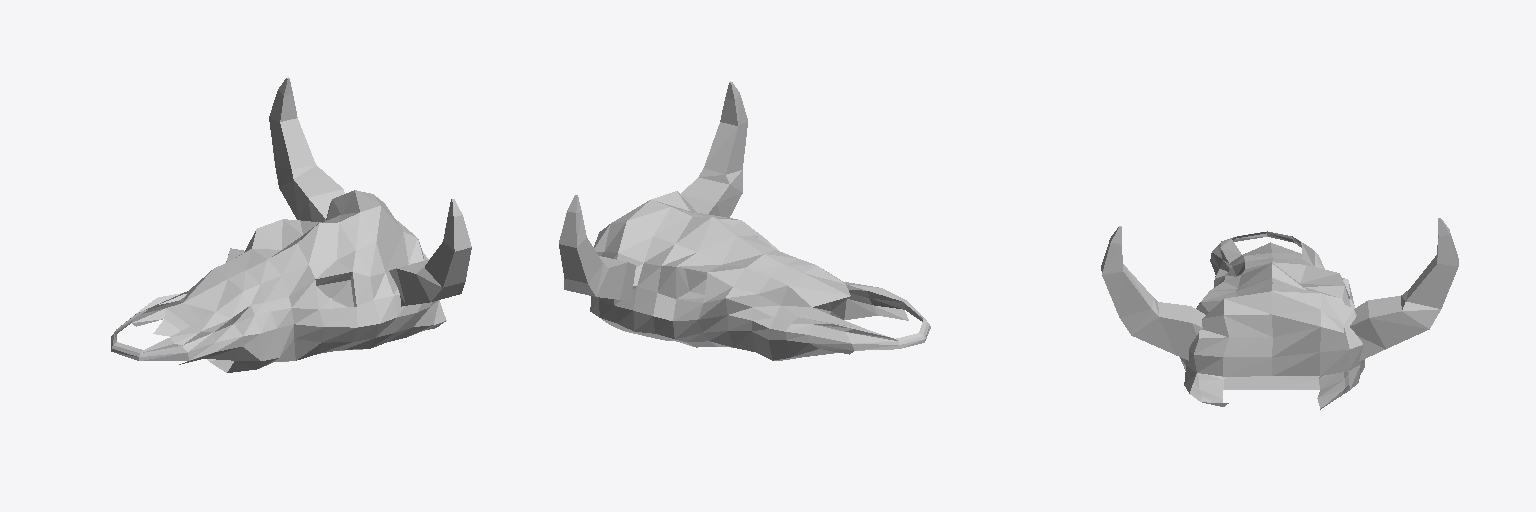
Rendered from dead_head.obj.
3 views of the same model, side by side, from view 1: azimuth 30°, elevation 25°; view 2: azimuth 150°, elevation 25°; view 3: azimuth 270°, elevation 25° (orthographic).
Parts seen in each view (by area): view 1: pCube1, pCube3, pCube4; view 2: pCube1, pCube4, pCube3; view 3: pCube1, pCube3, pCube4.
Part boxes in pixels (x1,y1,x2,y2): pCube1: (111,190,446,372); pCube3: (269,77,344,222); pCube4: (389,199,471,306); pCube1: (590,191,930,360); pCube4: (680,81,747,217); pCube3: (559,195,635,301); pCube1: (1180,231,1364,409); pCube3: (1350,218,1458,360); pCube4: (1101,226,1205,360).
Bounding box in the file's own units: 13.93 × 8.15 × 14.29.